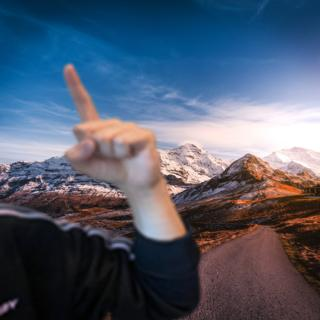IRRITATED: (58, 59, 164, 192)
